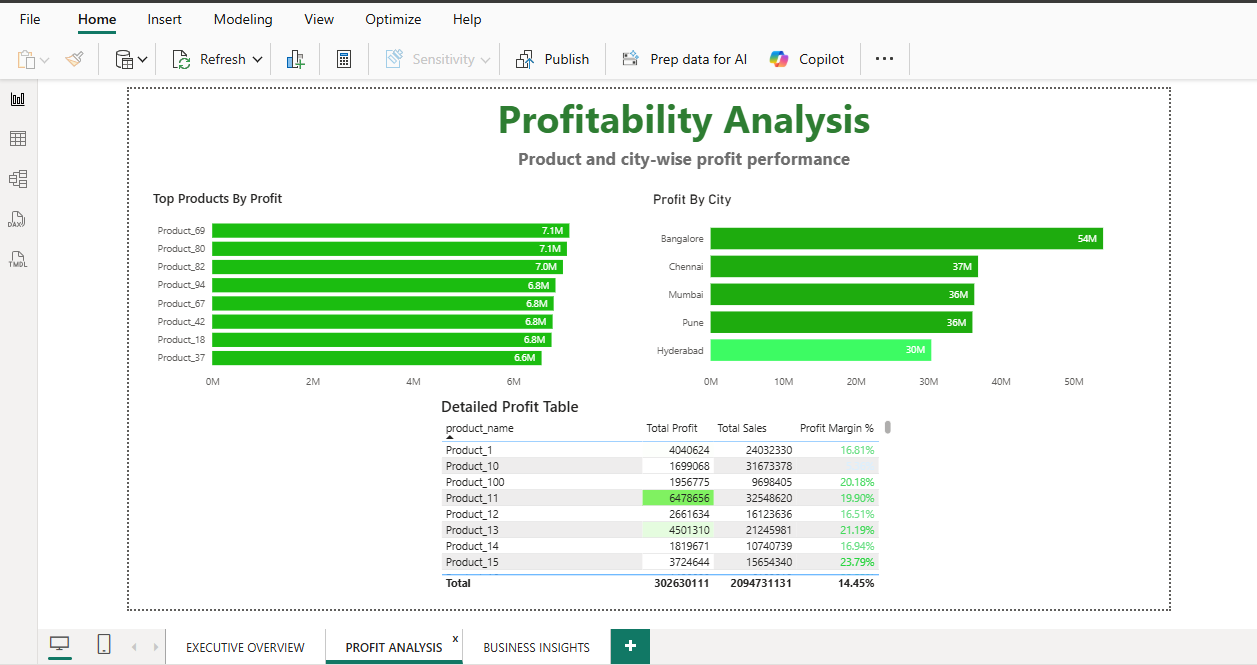

This screenshot's page, from the dashboard's own definition file:
{"tool":"powerbi","page":{"name":"PROFIT ANALYSIS","canvas":[1300,650],"ordinal":1},"visuals":[{"type":"clusteredBarChart","title":"Top Products By Profit","fields":{"Category":["products.product_name"],"Y":["orders.Total Profit"]},"box":[25,125,566.2,258.8],"z":0},{"type":"textbox","title":"Profitability Analysis","box":[267.5,2.5,852.5,70],"z":1000},{"type":"textbox","title":"Product and city-wise profit performance","box":[417.5,72.5,552.5,31.2],"z":2000},{"type":"clusteredBarChart","title":"Profit By City","fields":{"Category":["stores.city"],"Y":["orders.Total Profit"]},"box":[650,127.5,615,256.2],"z":3000},{"type":"tableEx","title":"Detailed Profit Table","fields":{"Values":["products.product_name","orders.Total Profit","orders.Total Sales","orders.Profit Margin %"]},"box":[385,397.5,572.5,233.8],"z":4000}]}

Visuals, with their boxes on the page's 1300x650 design canvas (x1, y1, x2, y2). These are canvas units, not pixel positions in the 1257x665 screenshot, which may show the page scaled, cropped or inside an application window:
"Top Products By Profit" clusteredBarChart: box(25, 125, 591, 384)
"Profitability Analysis" textbox: box(268, 2, 1120, 72)
"Product and city-wise profit performance" textbox: box(418, 72, 970, 104)
"Profit By City" clusteredBarChart: box(650, 128, 1265, 384)
"Detailed Profit Table" tableEx: box(385, 398, 958, 631)
